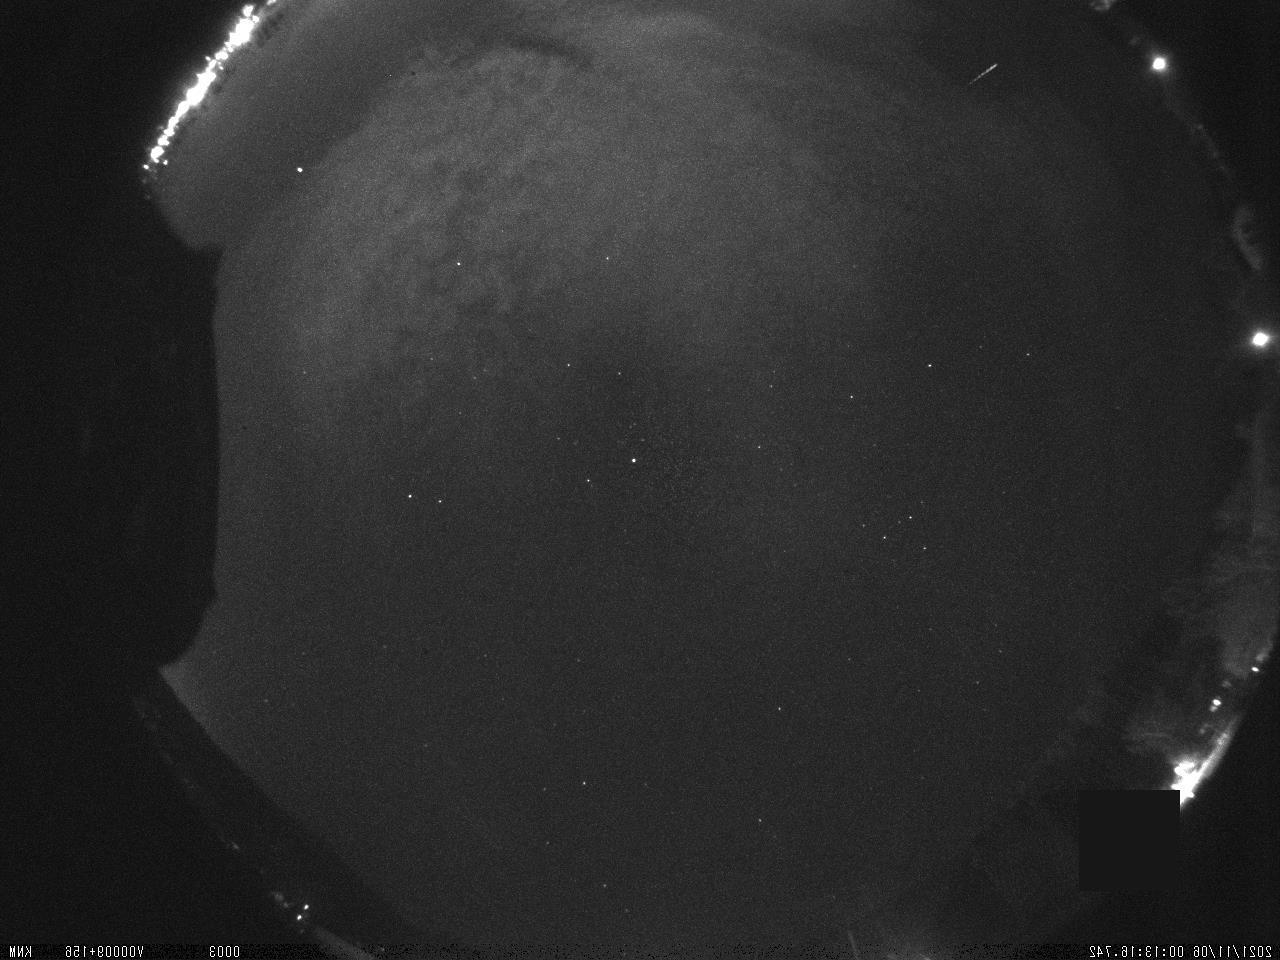meteor: (954, 55, 1007, 95)
